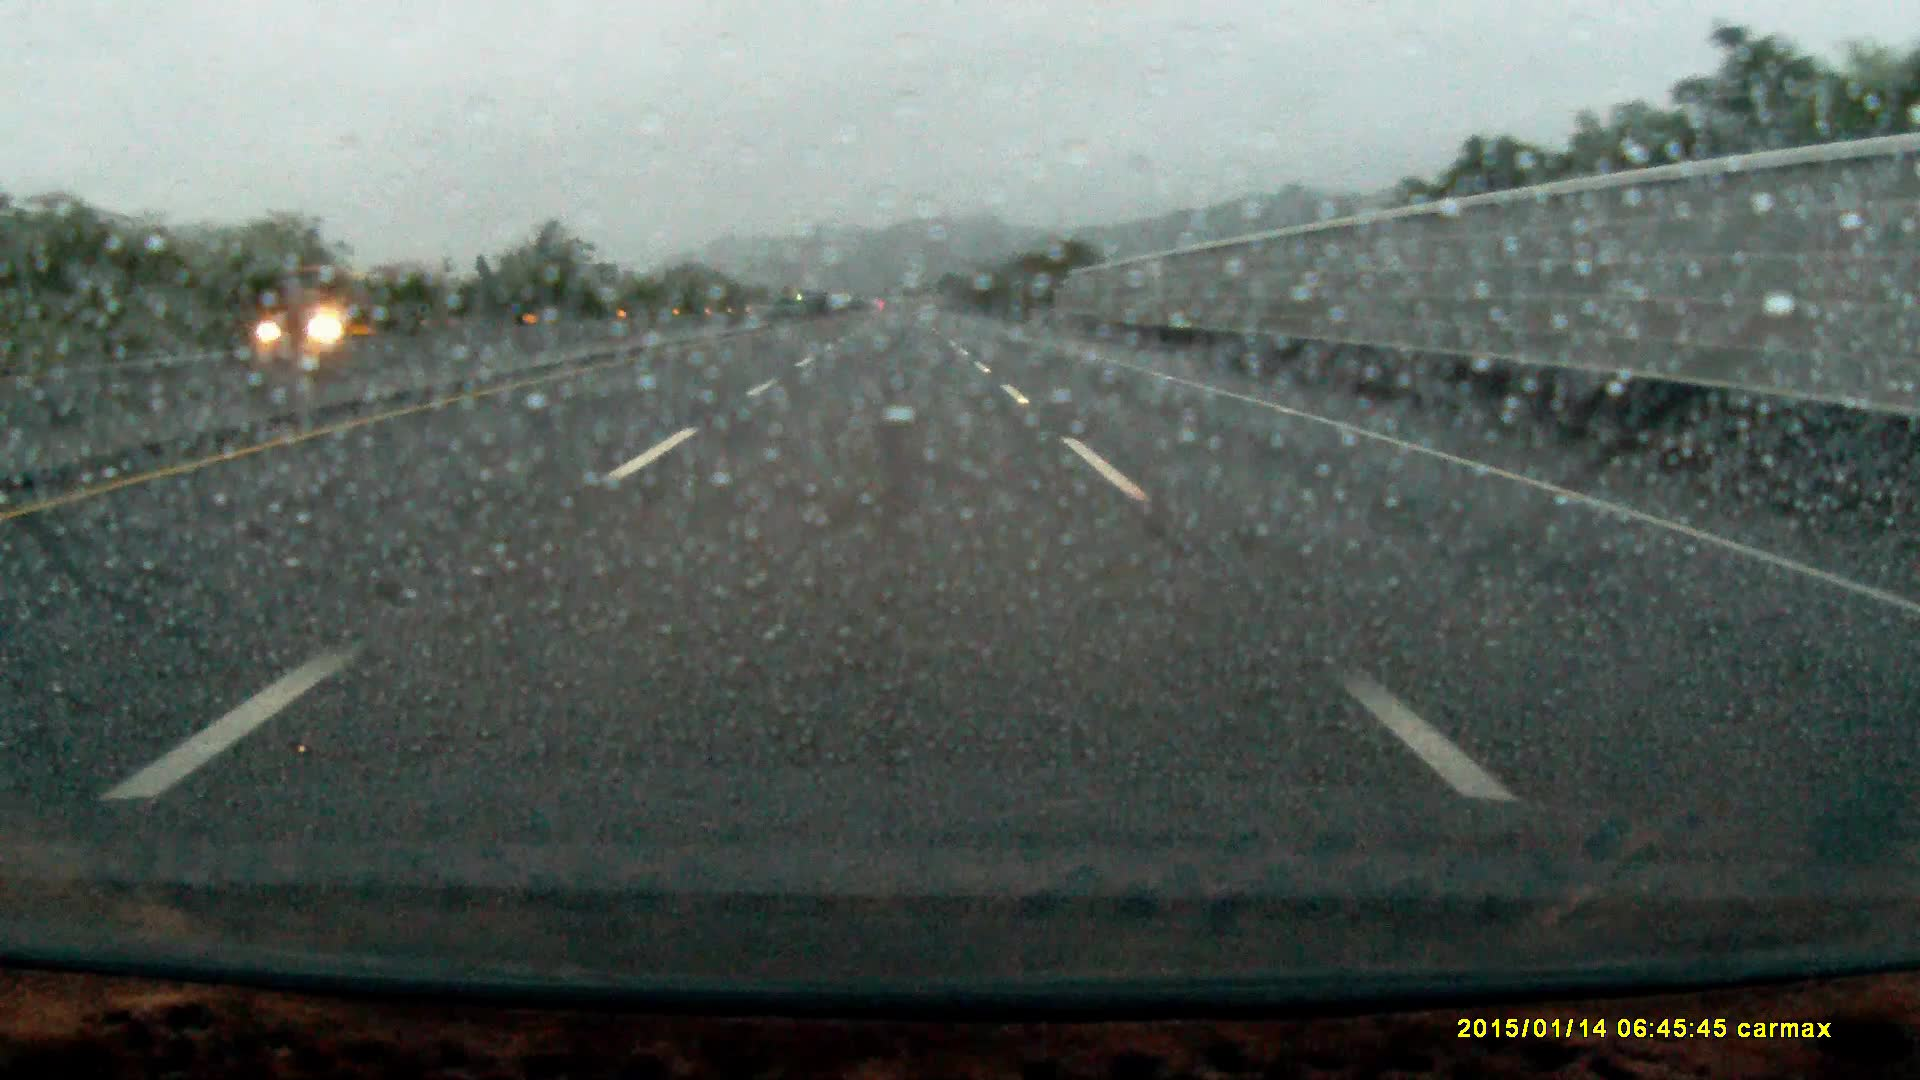vehicle: (262, 262, 429, 357)
